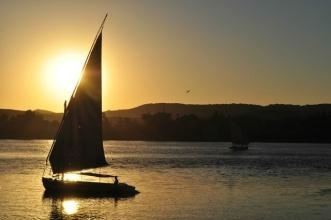fanchuan: (38, 10, 134, 194)
